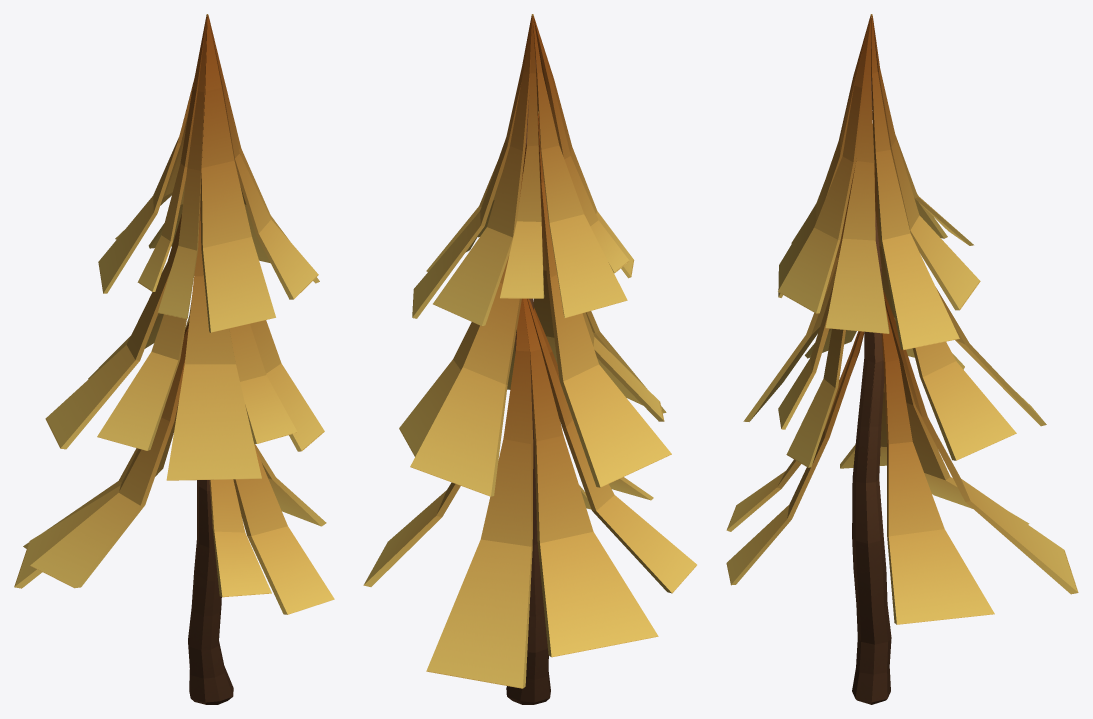
File: Tree2Dry 1.fbx
The picture shows the model from 3 angles, left to right: view 1: azimuth 30°, elevation 25°; view 2: azimuth 150°, elevation 25°; view 3: azimuth 270°, elevation 25°; orthographic projection.
Parts seen in each view (by area): view 1: SmallTree_LOD0; view 2: SmallTree_LOD0; view 3: SmallTree_LOD0.
Part boxes in pixels (bbox=[...]): SmallTree_LOD0: bbox=[14, 14, 334, 704]; SmallTree_LOD0: bbox=[363, 14, 696, 704]; SmallTree_LOD0: bbox=[726, 14, 1078, 704].
Size of what is drawn, in the model's own units: 166 by 373 by 175.
2 materials, 2 textured.
